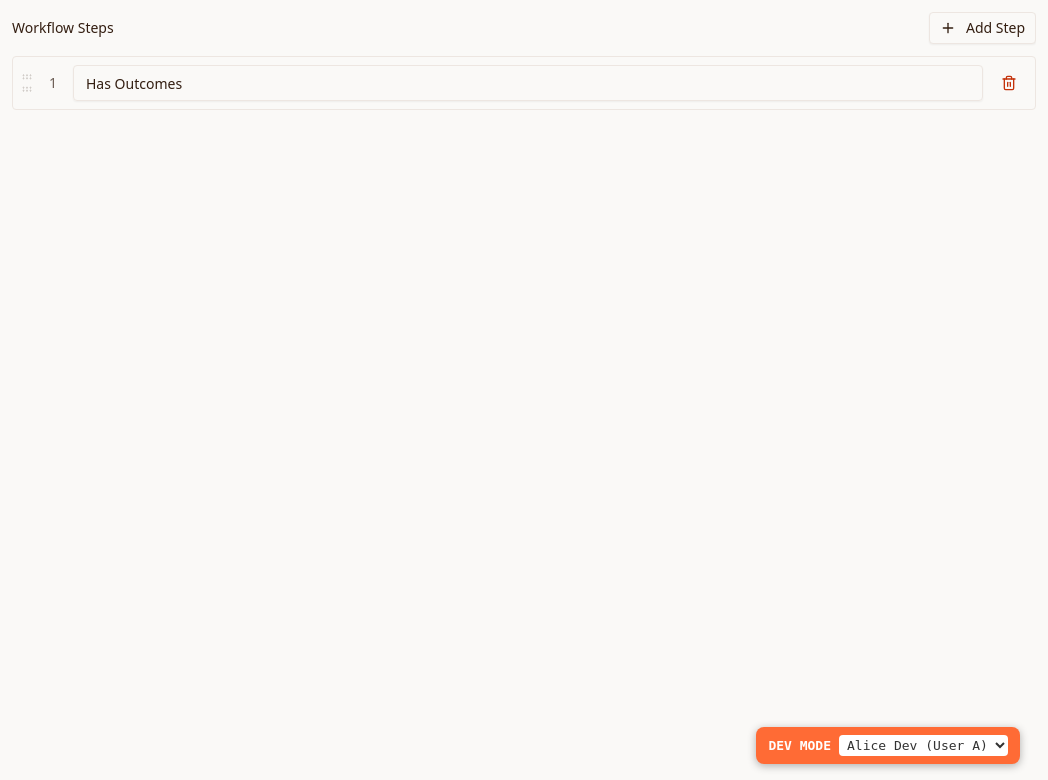
Test case: WorkflowStepEditor (edit mode) › should show inline error when removing step with outcomes (409)
Click the button named "Remove Has Outcomes" at (1009, 83), box left=991, top=65, right=1027, bottom=101
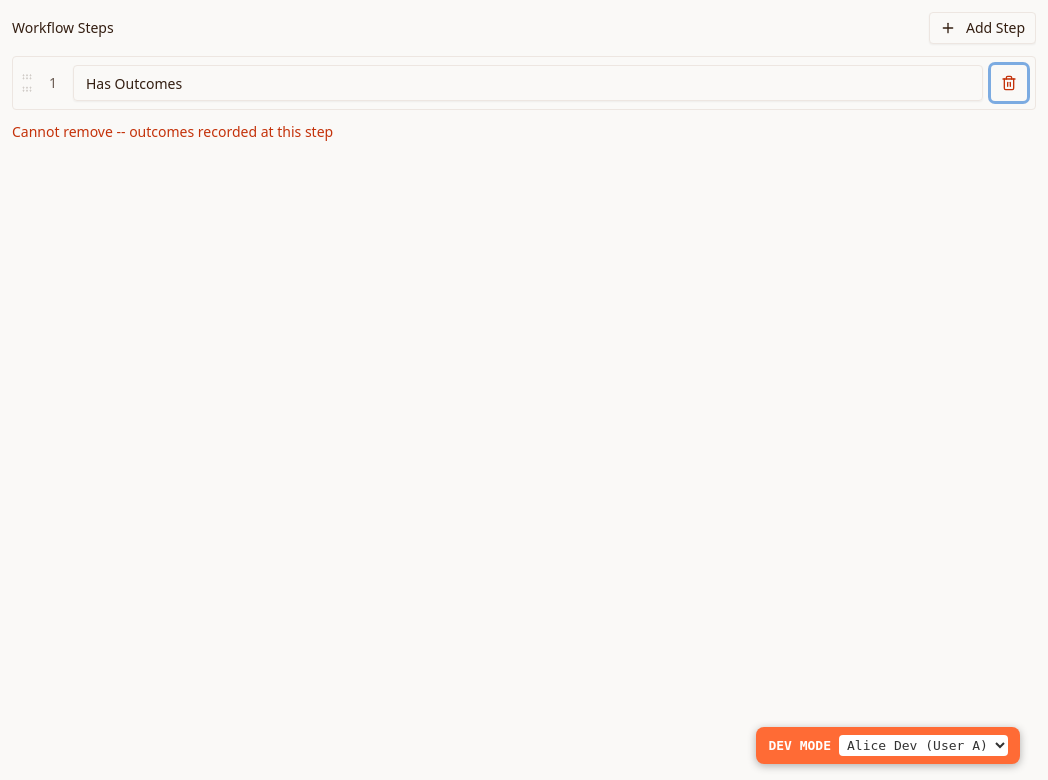
Result: the text "Cannot remove -- outcomes recorded at this step" is shown at left=12, top=122, right=333, bottom=141
